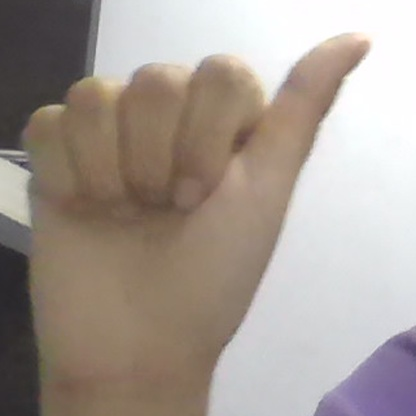A: (23, 33, 370, 382)
